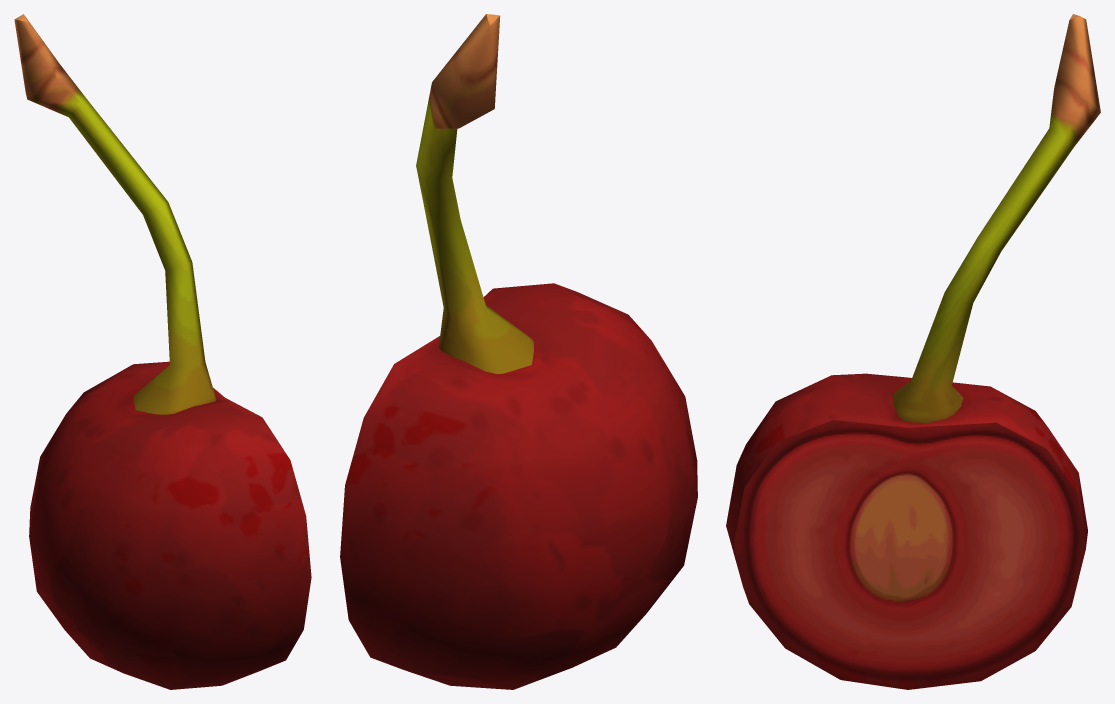
Rendered from SM_CherryCCutA.fbx.
3 renders of one model, left to right at view 1: azimuth 30°, elevation 25°; view 2: azimuth 150°, elevation 25°; view 3: azimuth 270°, elevation 25°, orthographic. The views are drawn at different scales.
Visible parts, largest first — view 1: SM_CherryCCutA; view 2: SM_CherryCCutA; view 3: SM_CherryCCutA.
Boxes of the visible parts, x1=… form: SM_CherryCCutA: x1=14, y1=14, x2=311, y2=689; SM_CherryCCutA: x1=340, y1=14, x2=697, y2=689; SM_CherryCCutA: x1=726, y1=14, x2=1100, y2=689.
Bounding box in the file's own units: 3.02 × 10.04 × 5.49.
